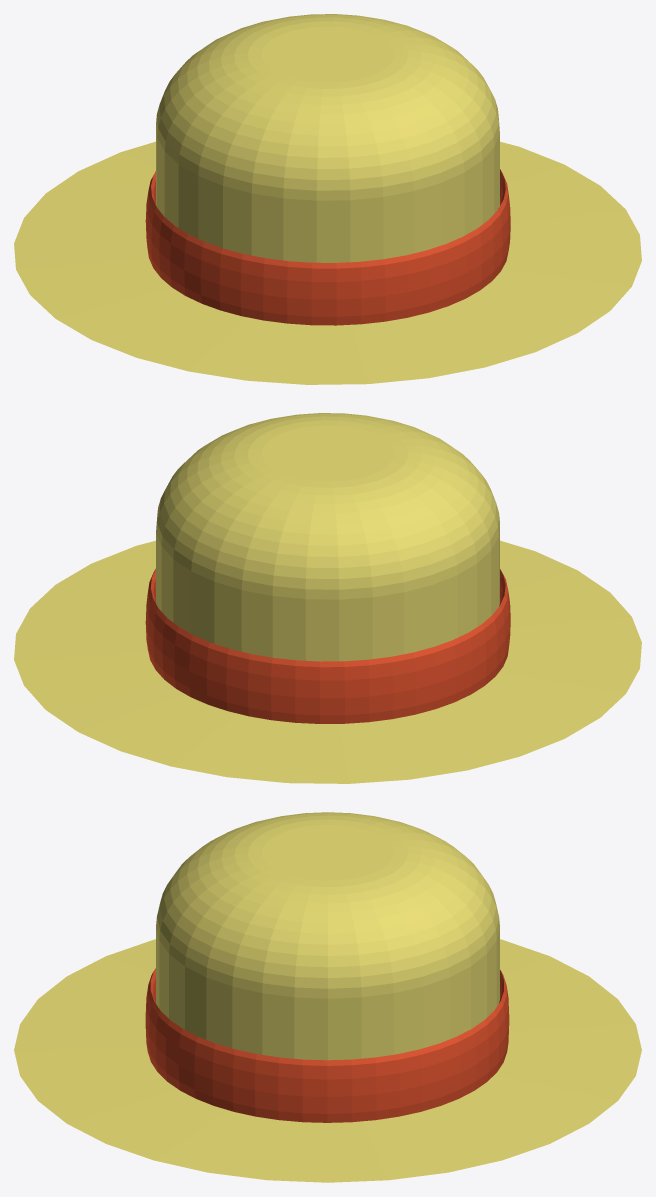
The model's file is straw-hat.glb.
3 renders of one model, top to bottom at view 1: azimuth 30°, elevation 25°; view 2: azimuth 150°, elevation 25°; view 3: azimuth 270°, elevation 25°, orthographic.
Visible parts, largest first — view 1: Cylinder.001, Cylinder, Torus.001; view 2: Cylinder.001, Cylinder, Torus.001; view 3: Cylinder.001, Cylinder, Torus.001.
Boxes of the visible parts, x1,y1,x2,y2 form: Cylinder.001: [156, 14, 499, 262]; Cylinder: [14, 141, 641, 384]; Torus.001: [145, 169, 510, 325]; Cylinder.001: [156, 413, 499, 661]; Cylinder: [14, 540, 641, 783]; Torus.001: [145, 568, 510, 723]; Cylinder.001: [156, 812, 499, 1060]; Cylinder: [14, 939, 641, 1182]; Torus.001: [145, 968, 509, 1122].
Size of the model in its own units: 9.55 by 3.4 by 9.55.
